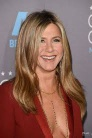female: (22, 13, 73, 80)
